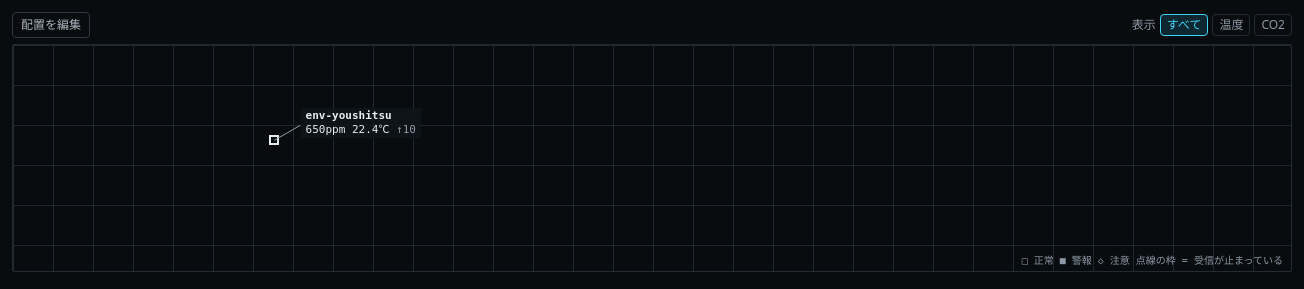
Scenario: FloorPlanWidget（配置図） › 札に、1 時間前からの変化を出す。表示の種類を選ぶと、その種類の値にする（選んだ種類は覚える）
This screenshot has width=1304, height=289.
Expected: the text "env-youshitsu650ppm 22.4℃ ↑10" is shown, [301, 108, 421, 138]
Expected: the text "↑10" is shown, [396, 123, 416, 136]
Click the button "温度". click: (1231, 25)
box: [1212, 14, 1250, 36]
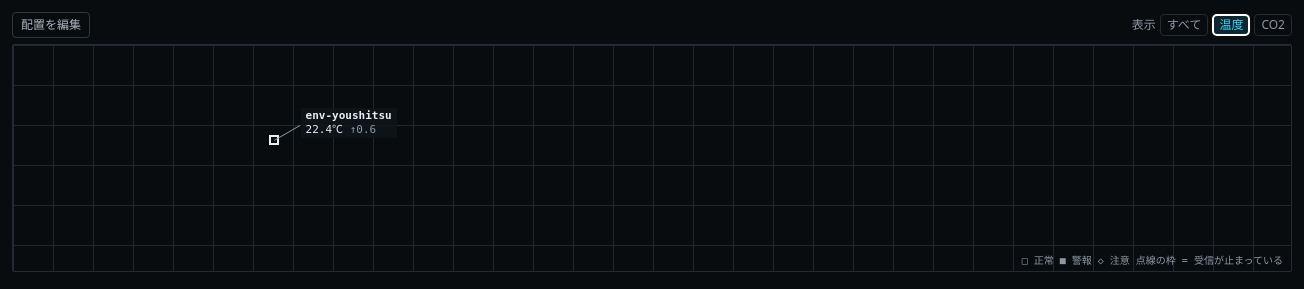
Expected: the text "22.4℃" is shown, [306, 123, 343, 136]
Result: the text "↑0.6" is shown at [350, 123, 376, 136]
